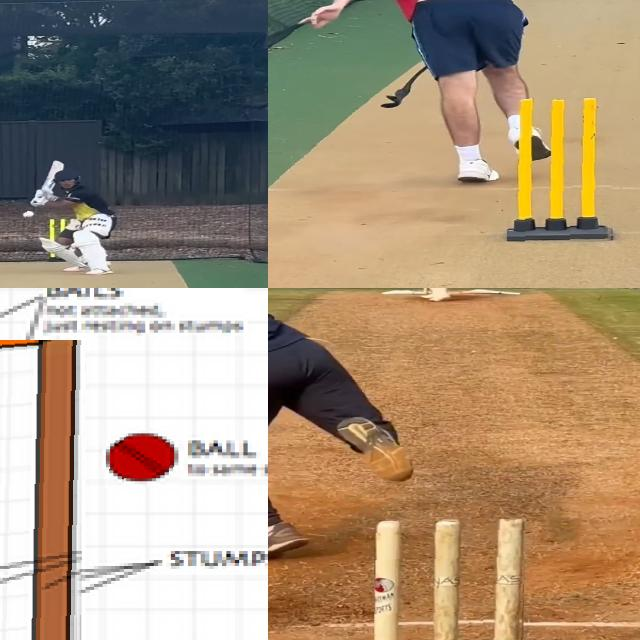Cricket ball: (103, 428, 183, 488), (20, 210, 37, 220)
Stumps: (0, 340, 87, 640), (373, 519, 526, 640), (507, 97, 616, 243)
